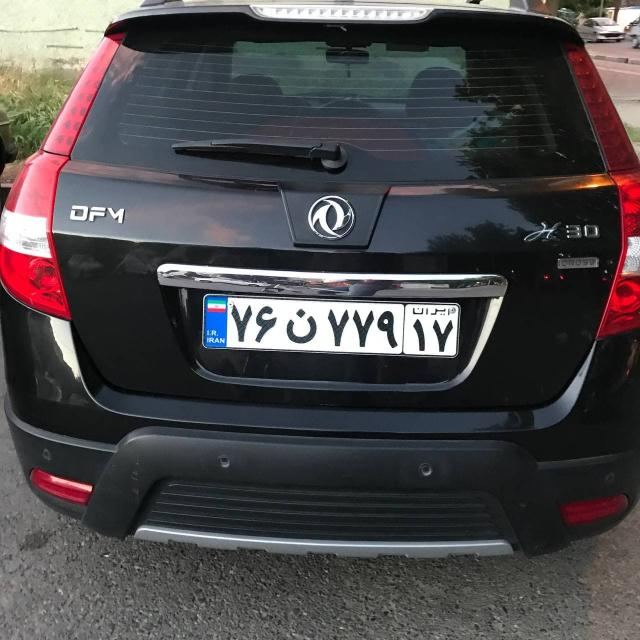Plates: (203, 295, 460, 357)
